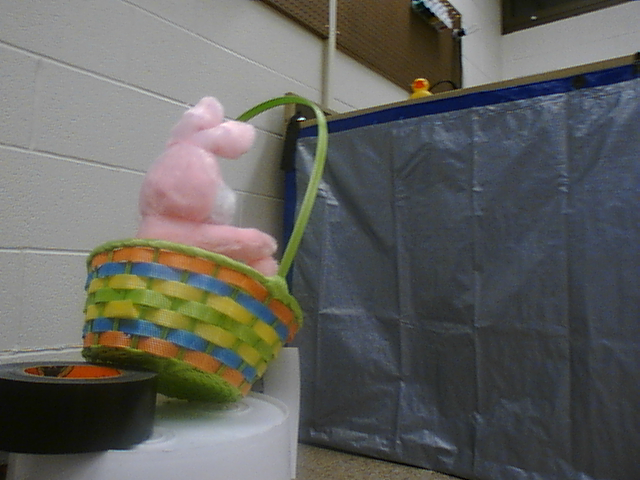bunny: (67, 90, 326, 421)
